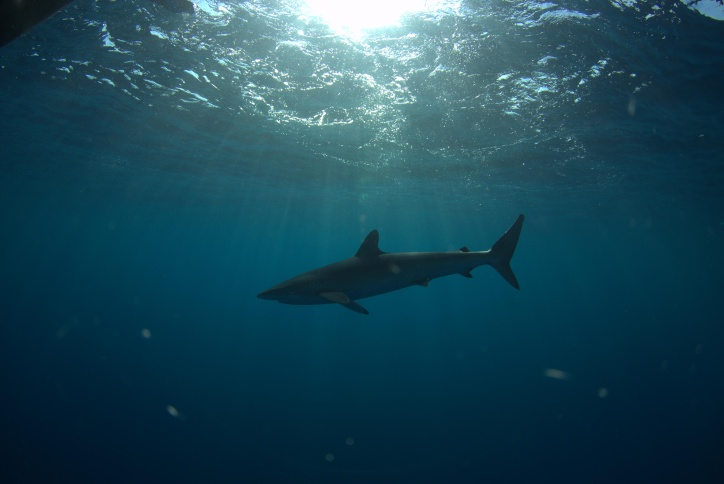Sedoso: (235, 204, 546, 321)
